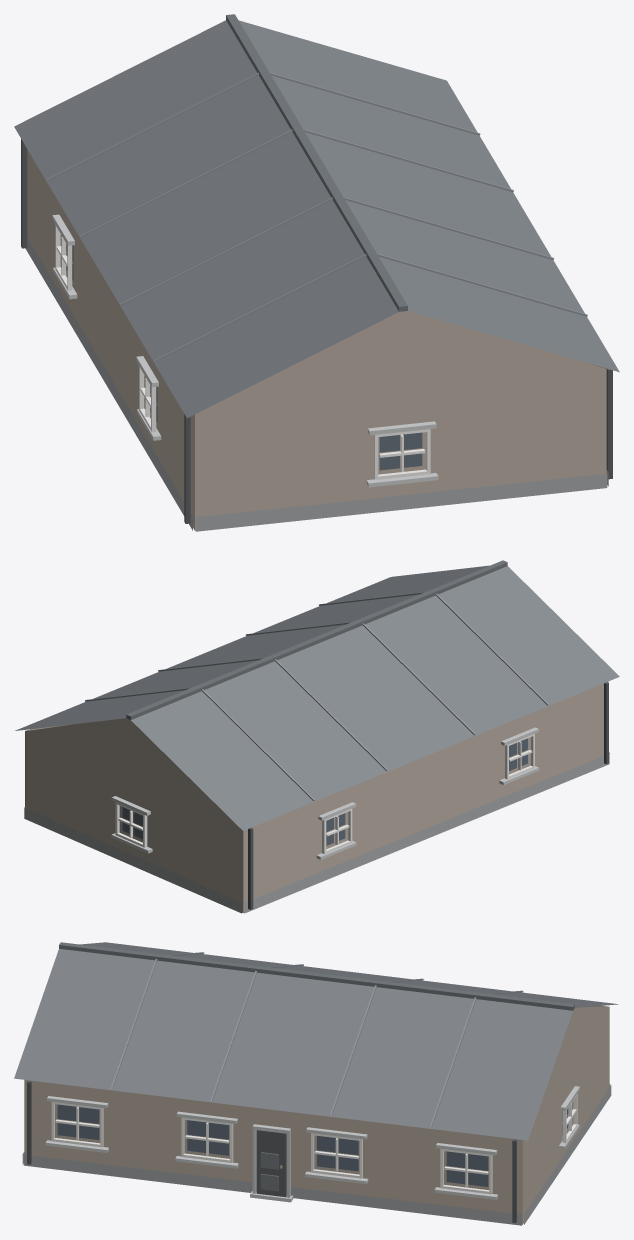
3 renders of one model, top to bottom at view 1: azimuth 30°, elevation 25°; view 2: azimuth 150°, elevation 25°; view 3: azimuth 270°, elevation 25°, orthographic. The views are drawn at different scales.
Visible parts, largest first — view 1: slate, harl_brown, plinth, slate_lt, slate_dk, frame, pipe, stone_band; view 2: slate, harl_brown, plinth, slate_dk, slate_lt, frame, stone_band, pipe; view 3: slate, harl_brown, plinth, stone_band, frame, slate_dk, slate_lt, door_dark, pipe, door_dark_p.
Boxes of the visible parts, left/top/right/bottom form: slate: left=14, top=20, right=619, bottom=418; harl_brown: left=27, top=149, right=606, bottom=530; plinth: left=25, top=238, right=608, bottom=531; slate_lt: left=46, top=72, right=587, bottom=362; slate_dk: left=226, top=14, right=407, bottom=311; frame: left=55, top=225, right=430, bottom=479; pipe: left=21, top=139, right=612, bottom=523; stone_band: left=52, top=214, right=438, bottom=487; slate: left=15, top=565, right=619, bottom=830; harl_brown: left=25, top=681, right=608, bottom=912; plinth: left=24, top=752, right=609, bottom=913; slate_dk: left=126, top=560, right=507, bottom=719; slate_lt: left=85, top=592, right=548, bottom=801; frame: left=115, top=734, right=534, bottom=854; stone_band: left=111, top=727, right=539, bottom=859; pipe: left=25, top=682, right=608, bottom=909; slate: left=14, top=942, right=618, bottom=1140; harl_brown: left=24, top=1006, right=609, bottom=1224; plinth: left=22, top=1084, right=611, bottom=1225; stone_band: left=45, top=1086, right=579, bottom=1202; frame: left=51, top=1094, right=577, bottom=1194; slate_dk: left=59, top=942, right=574, bottom=1010; slate_lt: left=110, top=952, right=523, bottom=1128; door_dark: left=256, top=1130, right=286, bottom=1197; pipe: left=27, top=1081, right=516, bottom=1223; door_dark_p: left=260, top=1152, right=278, bottom=1191.
Bounding box in the file's own units: 13.65 × 5.02 × 17.63.
